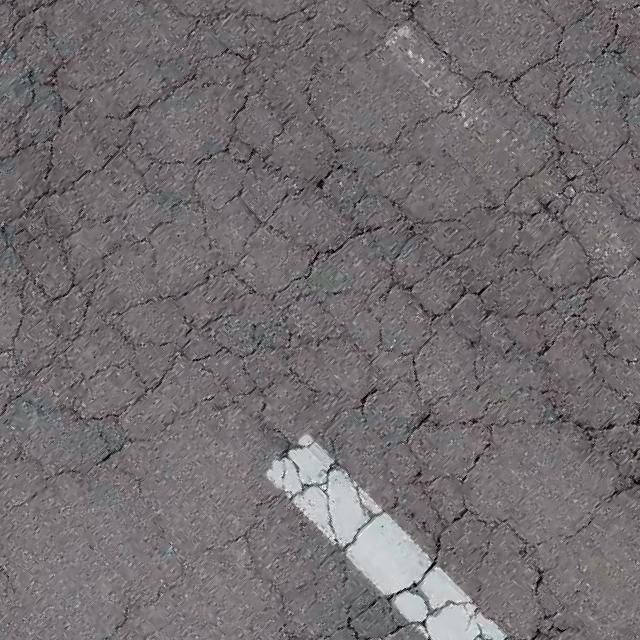GRIETA: (100, 562, 191, 639)
PIEL DE COCODRILO: (0, 0, 639, 639)
